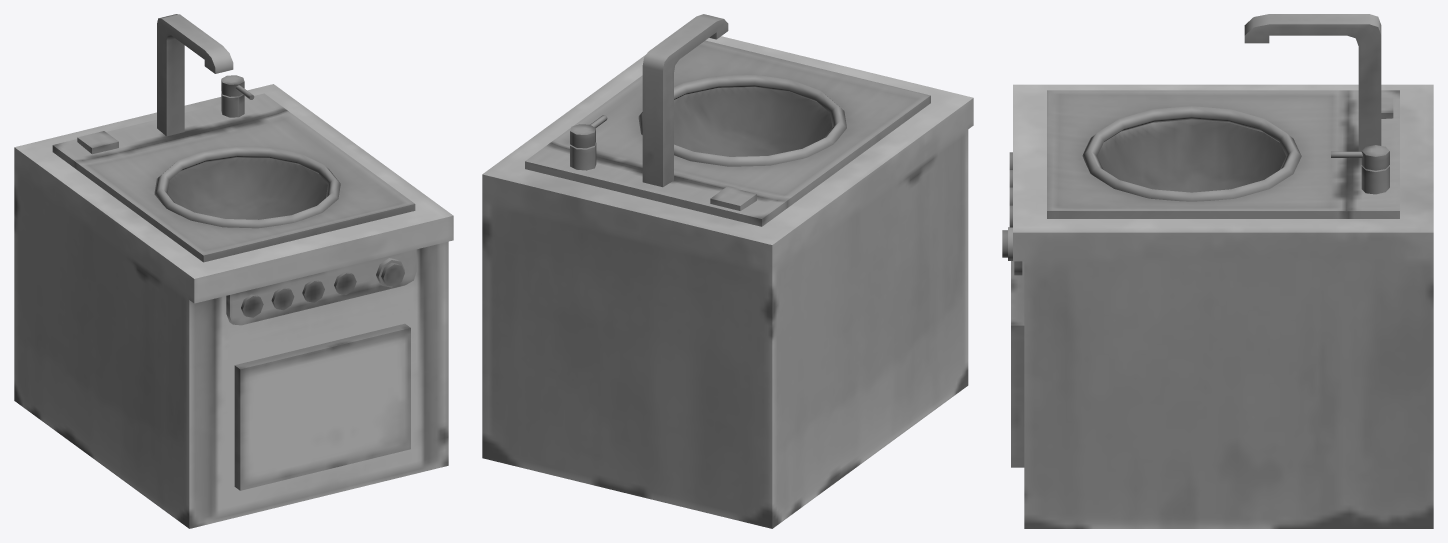
File: SM_Scullery.fbx
3 views of the same model, side by side, from view 1: azimuth 30°, elevation 25°; view 2: azimuth 150°, elevation 25°; view 3: azimuth 270°, elevation 25° (orthographic). The views are drawn at different scales.
Visible parts, largest first — view 1: Kitchen; view 2: Kitchen; view 3: Kitchen.
Boxes of the visible parts, x1,y1,x2,y2 form: Kitchen: (14,14,453,528); Kitchen: (482,14,973,528); Kitchen: (1002,14,1433,528).
Size of the model in its own units: 1.53 by 2.1 by 1.88.
1 material, 1 textured.
